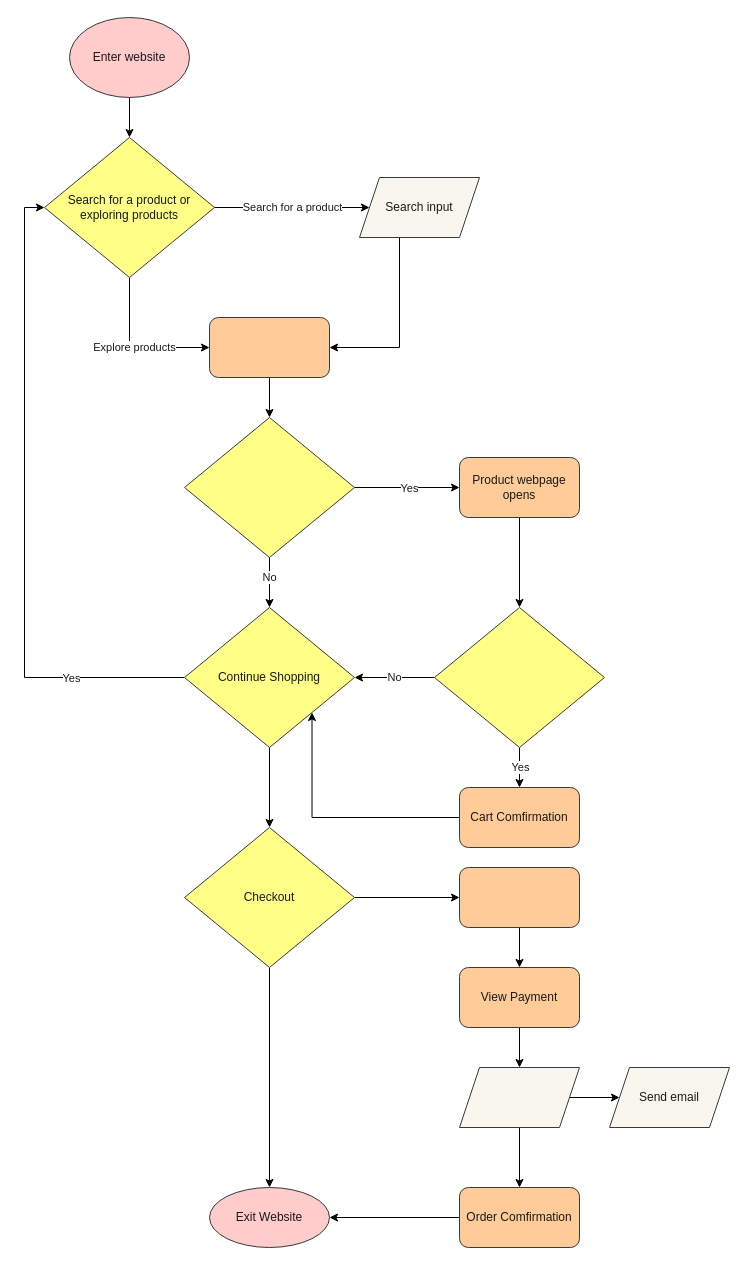
The diagram is 747 pixels wide and 1265 high, and some of its shapes have lost their labels. Here are the shapes that lost their labels. From the top down, the centre of each, then its label:
At (x=269, y=347): "Look at products".
At (x=269, y=487): "View a certain product".
At (x=519, y=677): "Add Item to Cart".
At (x=519, y=897): "View Cart".
At (x=519, y=1097): "Input payment information".
